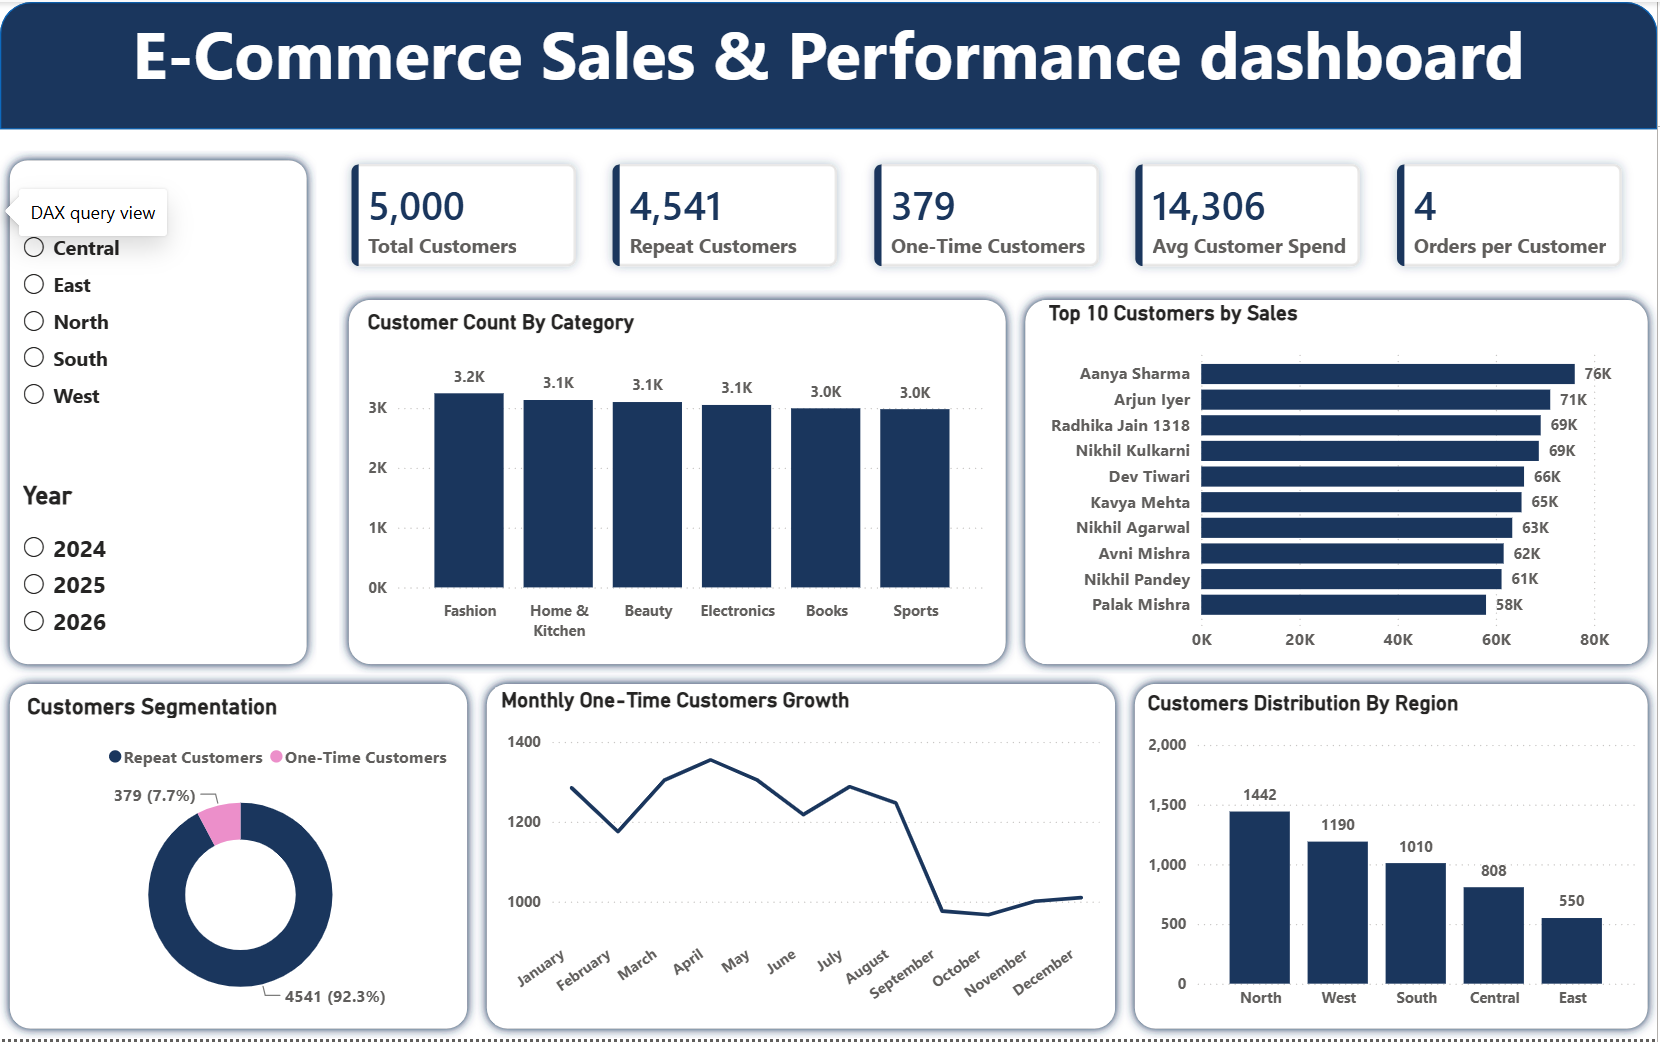

Layout of this report page (visuals, bound fields, positions):
{"tool":"powerbi","page":{"name":"Customer Analysis","canvas":[1350,845],"ordinal":2},"visuals":[{"type":"cardVisual","fields":{"Data":["_Measures.Total Customers","_Measures.Repeat Customers","_Measures.New Customer","_Measures.Average Customer Spend","_Measures.Orders per Customer"]},"box":[257.9,103.9,1092.6,139.3],"z":0},{"type":"shape","box":[0,0,1350.4,103.9],"z":1000},{"type":"textbox","box":[0,0,1350.4,86.8],"z":2000},{"type":"shape","box":[0,547.5,388.6,297],"z":3000},{"type":"donutChart","title":"Customers Segmentation","fields":{"Y":["_Measures.Repeat Customers","_Measures.New Customer"]},"box":[17.1,563.4,356.9,267.6],"z":4000},{"type":"shape","box":[916.6,547.5,433.8,297],"z":5000},{"type":"shape","box":[827.4,234.6,523.1,312.9],"z":6000},{"type":"barChart","title":"Top 10 Customers by Sales","fields":{"Category":["customers.customer_name"],"Y":["_Measures.Total Sales"]},"box":[849.4,243.2,480.3,295.7],"z":7000},{"type":"columnChart","title":"Customers Distribution By  Region","fields":{"Category":["locations.region"],"Y":["CountNonNull(customers.customer_id)"]},"box":[930,560.9,407,268.9],"z":8000},{"type":"shape","box":[388.6,547.5,527.9,297],"z":9000},{"type":"lineChart","title":"Monthly One-Time Customers Growth","fields":{"Category":["DateTable.Month"],"Y":["_Measures.New Customer"]},"box":[403.3,558.5,497.4,275],"z":10000},{"type":"shape","box":[276.2,234.6,551.2,312.9],"z":11000},{"type":"columnChart","title":"Customer Count By Category","fields":{"Y":["_Measures.Customers by Category"],"Category":["products.category"]},"box":[294.5,250.5,514.5,277.4],"z":12000},{"type":"shape","box":[0,121,257.9,426.5],"z":13000},{"type":"listSlicer","fields":{"Values":["locations.region"]},"box":[13.4,149.1,199.2,229.8],"z":14000},{"type":"listSlicer","fields":{"Values":["DateTable.Year"]},"box":[13.4,389.8,231,139.3],"z":15000}]}

Visuals, with their boxes in screenshot pixels (x1, y1, x2, y2), scaled from the page's 1350x845 canvas onto the 1660x1042 screenshot:
cardVisual - _Measures.Total Customers x _Measures.Repeat Customers: rect(317, 128, 1659, 300)
shape: rect(0, 0, 1659, 128)
textbox: rect(0, 0, 1659, 107)
shape: rect(0, 675, 478, 1041)
"Customers Segmentation" donutChart: rect(21, 695, 460, 1025)
shape: rect(1127, 675, 1659, 1041)
shape: rect(1017, 289, 1659, 675)
"Top 10 Customers by Sales" barChart: rect(1044, 300, 1635, 665)
"Customers Distribution By  Region" columnChart: rect(1144, 692, 1644, 1023)
shape: rect(478, 675, 1127, 1041)
"Monthly One-Time Customers Growth" lineChart: rect(496, 689, 1108, 1028)
shape: rect(340, 289, 1017, 675)
"Customer Count By Category" columnChart: rect(362, 309, 995, 651)
shape: rect(0, 149, 317, 675)
listSlicer - locations.region: rect(16, 184, 261, 467)
listSlicer - DateTable.Year: rect(16, 481, 301, 652)
